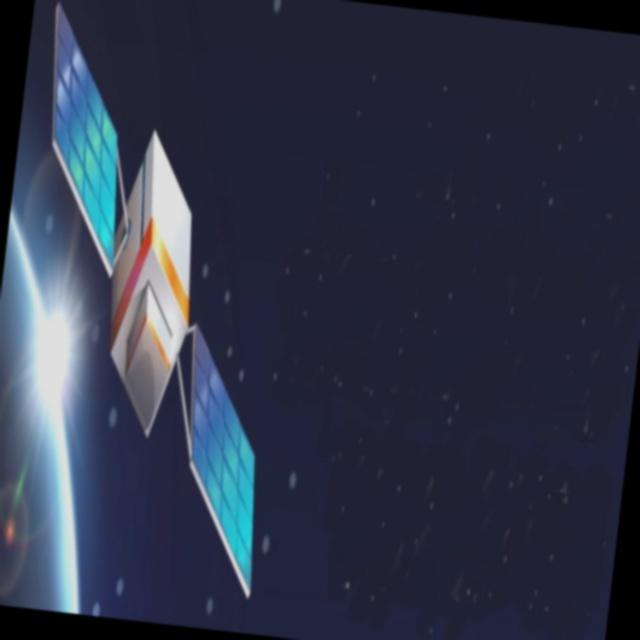satellite: (0, 6, 320, 607)
